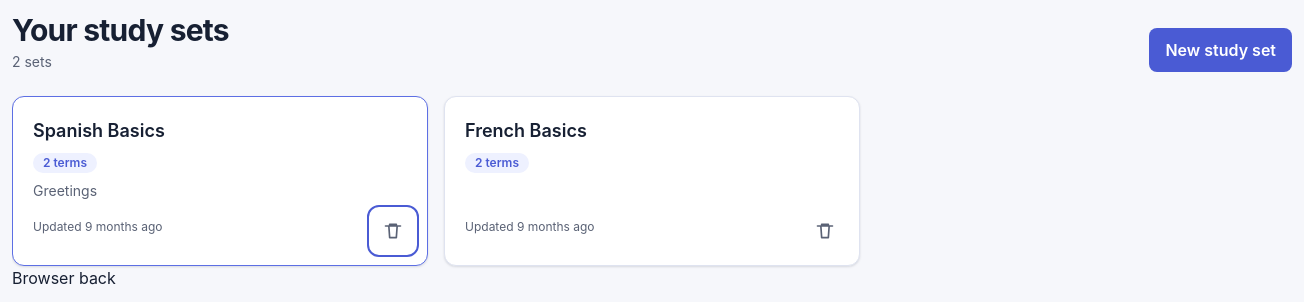
Scenario: StudySetsPanel › deletes a set after confirmation and moves focus to the list heading
What coordinates should you click on to do the following:
click the button named "Delete \"Spanish Basics\""
I would click on:
 (393, 231)
Its box is 371,209 -> 415,253.
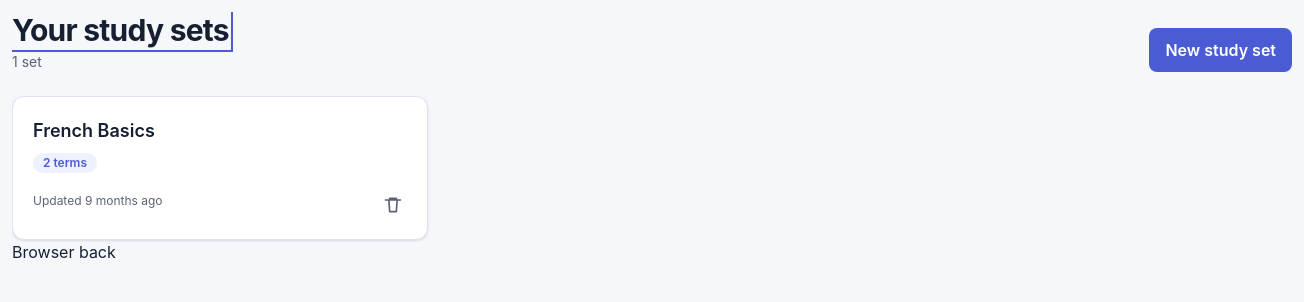
Expected: the button "French Basics" is shown, 33,117 -> 155,145
Now the button "Spanish Basics" is gone
Now the text "1 set" is shown, box 12,53 -> 42,70
